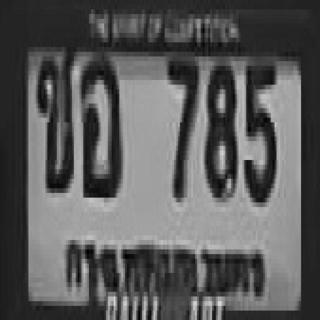A10: (36, 47, 74, 188)
A43: (80, 54, 119, 190)
N05: (242, 59, 275, 200)
N07: (167, 54, 197, 195)
N08: (203, 61, 235, 193)
P04: (60, 230, 267, 305)
